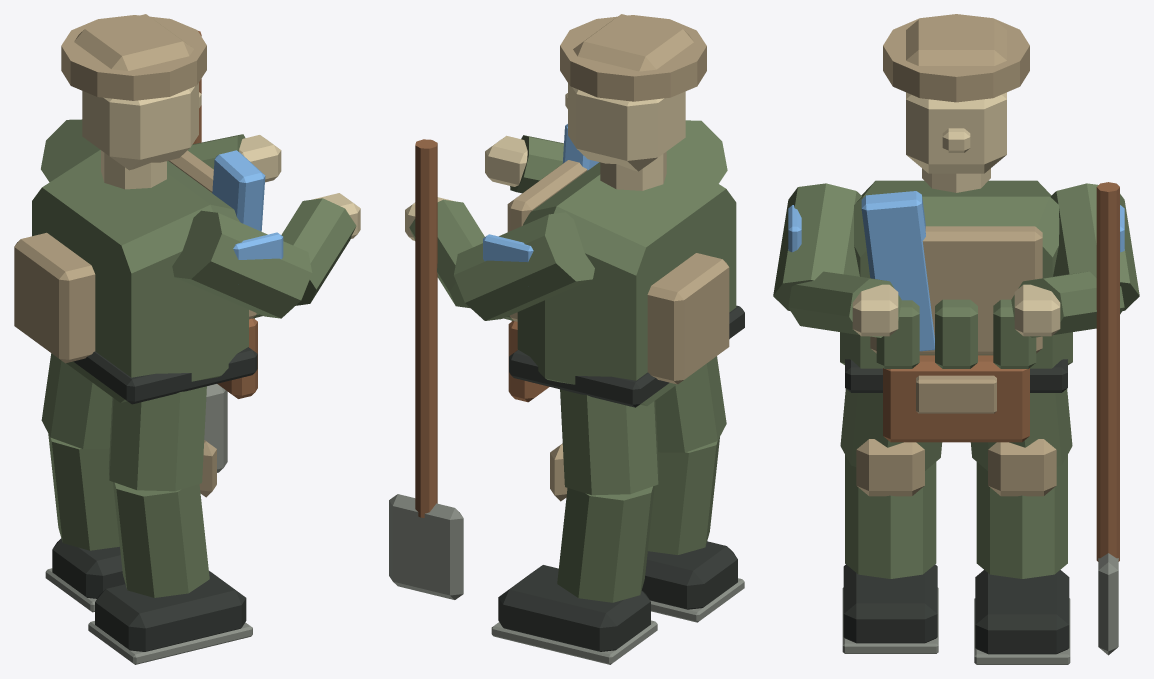
File: worker.glb
3 views of the same model, side by side, from view 1: azimuth 30°, elevation 25°; view 2: azimuth 150°, elevation 25°; view 3: azimuth 270°, elevation 25° (orthographic).
Visible parts, largest first — view 1: worker; view 2: worker; view 3: worker.
Boxes of the visible parts, x1,y1,x2,y2 form: worker: (14, 14, 360, 664); worker: (389, 14, 744, 664); worker: (773, 14, 1139, 664).
Bounding box in the file's own units: 0.63 × 1.31 × 0.74.
